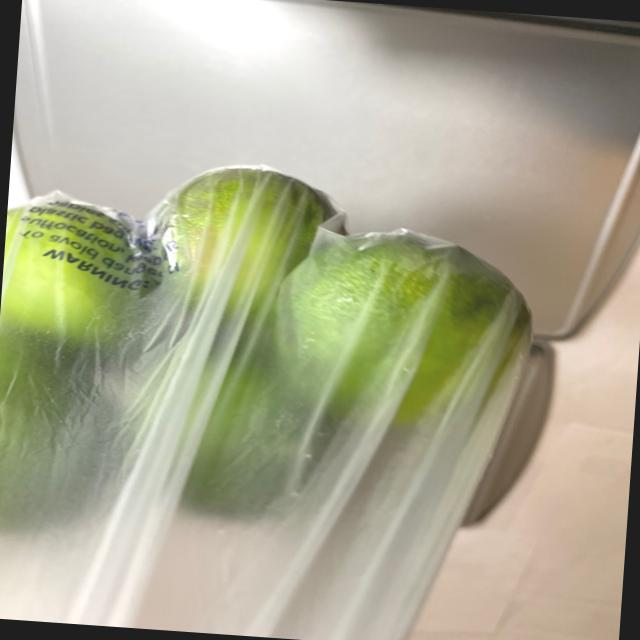lemon: (0, 167, 532, 553)
